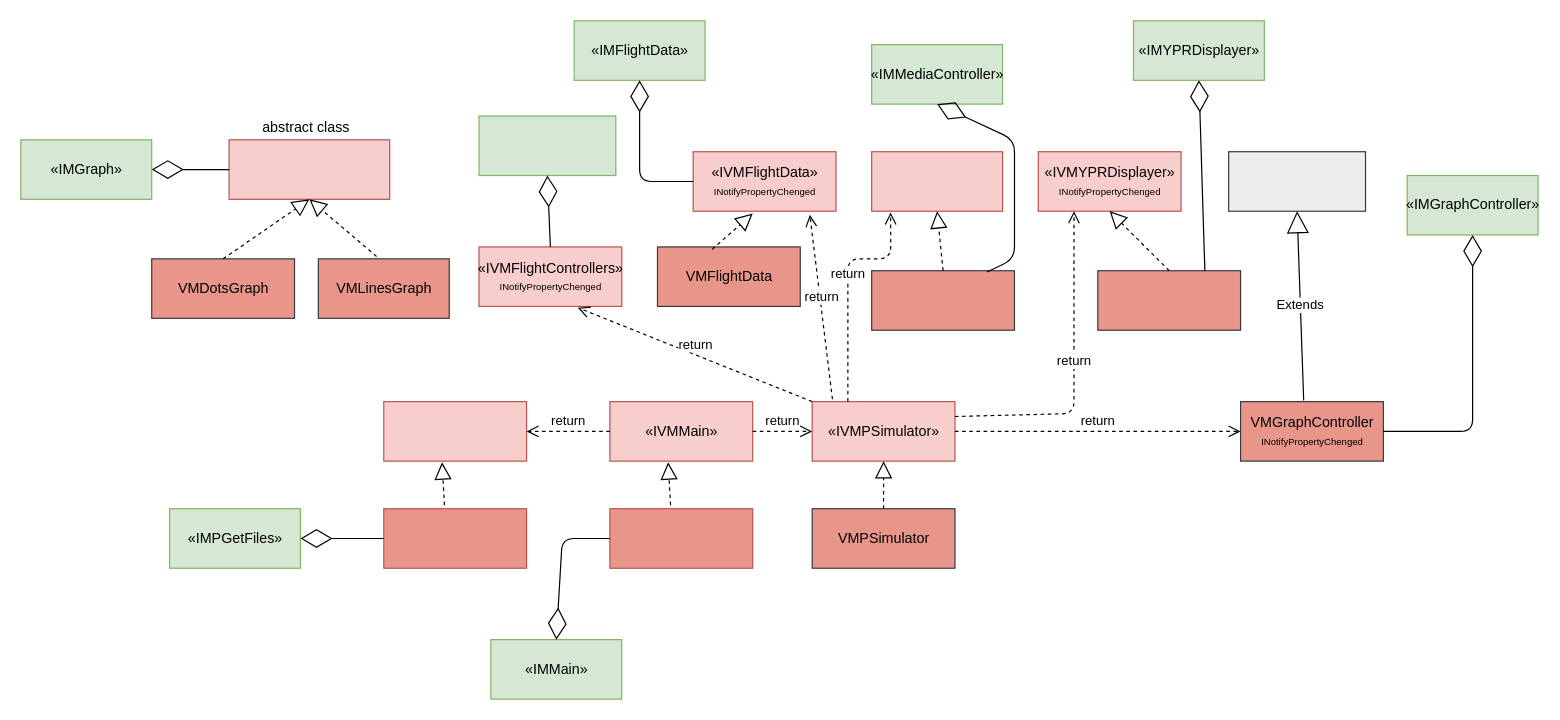
This 1560x720 diagram has some shape labels left out. The centre of each missing label's shape, as x and y in pixels:
"IVMPGetFiles" goes at pixel 455 538.
"System.Windows. DependacyObject" goes at pixel 1296 181.
"VMMain" goes at pixel 681 538.
"VMMediaController" goes at pixel 942 300.
"VMYRDDisplayer" goes at pixel 1169 300.
"«AVMGraph» INotifyPropertyChenged" goes at pixel 309 169.
"«IMFlightControllers»" goes at pixel 547 145.
"«IVMMediaController» INotifyPropertyChenged" goes at pixel 936 181.
"«IVMPGetFiles»" goes at pixel 455 430.
